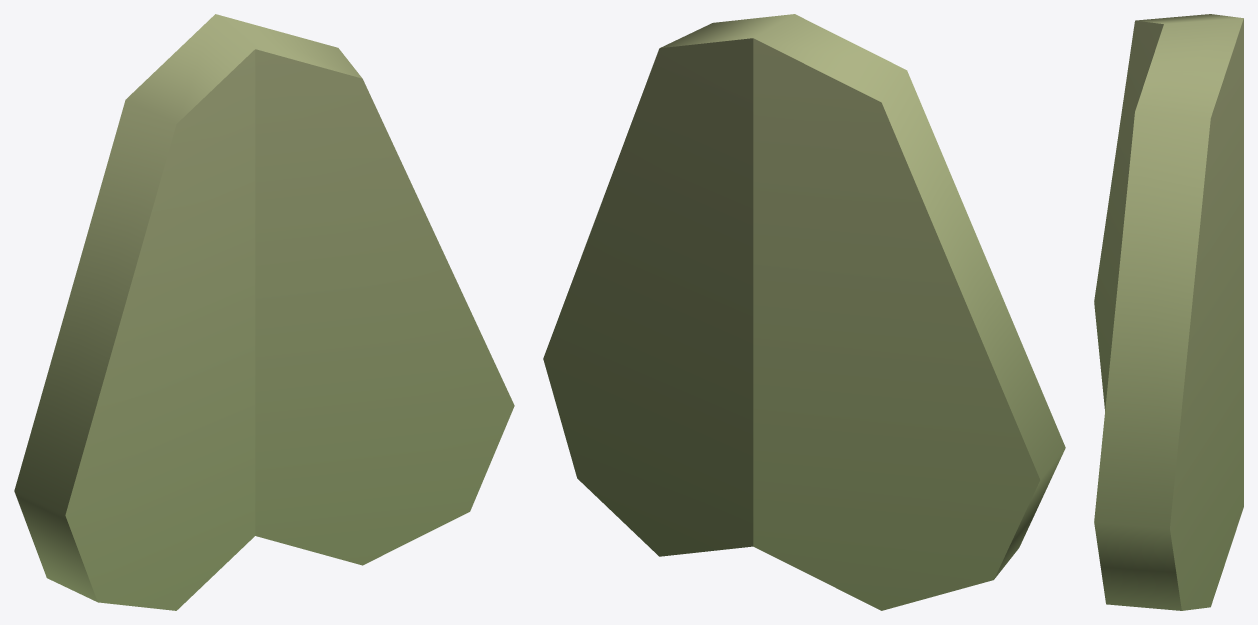
The model's file is organic-leaf-d.glb.
3 renders of one model, left to right at view 1: azimuth 30°, elevation 25°; view 2: azimuth 150°, elevation 25°; view 3: azimuth 270°, elevation 25°, orthographic. The views are drawn at different scales.
Visible parts, largest first — view 1: organic-leaf-d; view 2: organic-leaf-d; view 3: organic-leaf-d.
Boxes of the visible parts, box(x1,y1,x2,y2) form: organic-leaf-d: box(14, 14, 514, 610); organic-leaf-d: box(543, 14, 1065, 610); organic-leaf-d: box(1094, 14, 1243, 610).
Size of the model in its own units: 0.1727 by 0.1854 by 0.0468.
